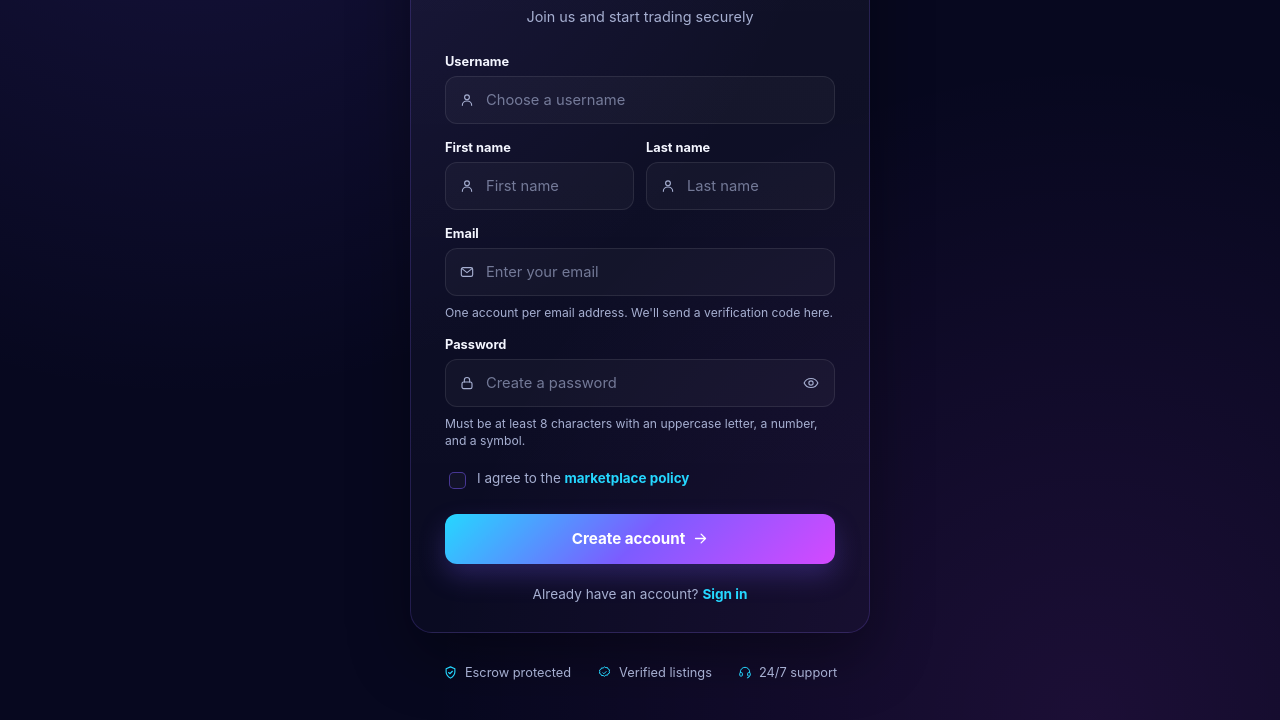
Redesigned auth pages — render + core interactions › Register: opening the policy modal still works after the redesign
(page scrolled)
Step 1. Click the button "marketplace policy" → [627, 478], box [564,469,689,488]
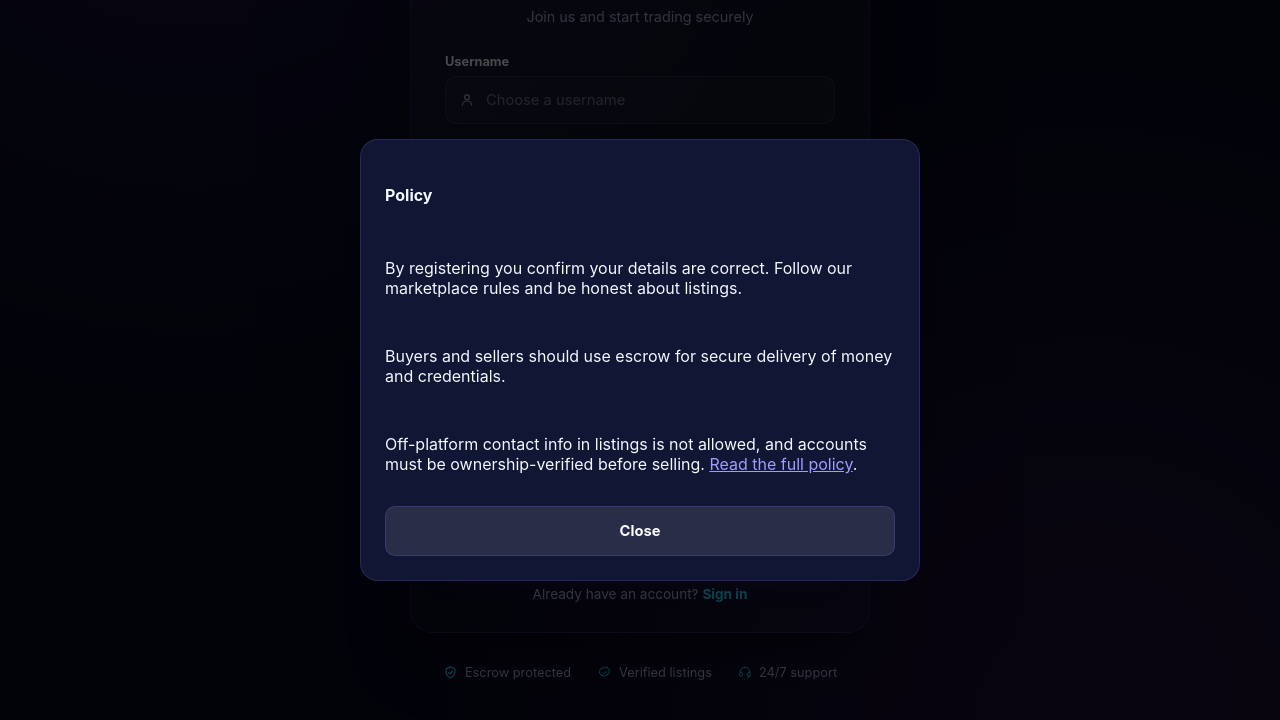
Now the element with class "modal-backdrop" is shown
Now the heading "Policy" is shown, box [385,185,432,205]
